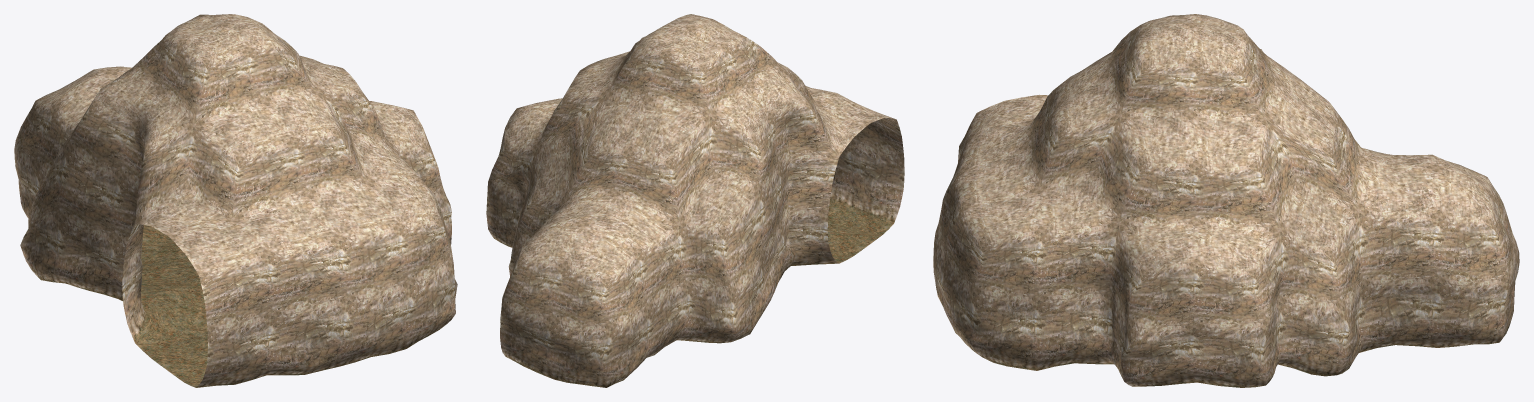
File: thm_all_cave_s03_r27_mesh_r27.fbx
3 views of the same model, side by side, from view 1: azimuth 30°, elevation 25°; view 2: azimuth 150°, elevation 25°; view 3: azimuth 270°, elevation 25° (orthographic). The views are drawn at different scales.
Parts seen in each view (by area): view 1: mesh_node; view 2: mesh_node; view 3: mesh_node.
Boxes of the visible parts, left/top/right/bottom form: mesh_node: left=14, top=14, right=457, bottom=387; mesh_node: left=486, top=14, right=904, bottom=387; mesh_node: left=933, top=14, right=1519, bottom=387.
Bounding box in the file's own units: 40.47 × 33.41 × 59.
